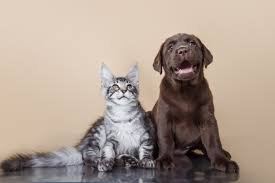cat: (85, 59, 155, 175)
dog: (149, 32, 245, 178)
